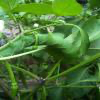Bell_pepper leaf: (3, 2, 52, 16), (52, 0, 83, 17)
